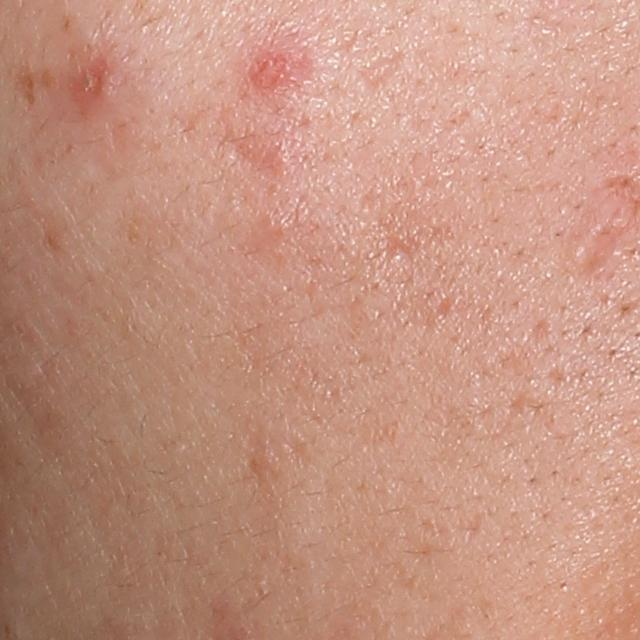atrophic_scar: (359, 51, 404, 94)
comedo: (386, 238, 413, 265)
papule: (253, 45, 305, 85)
